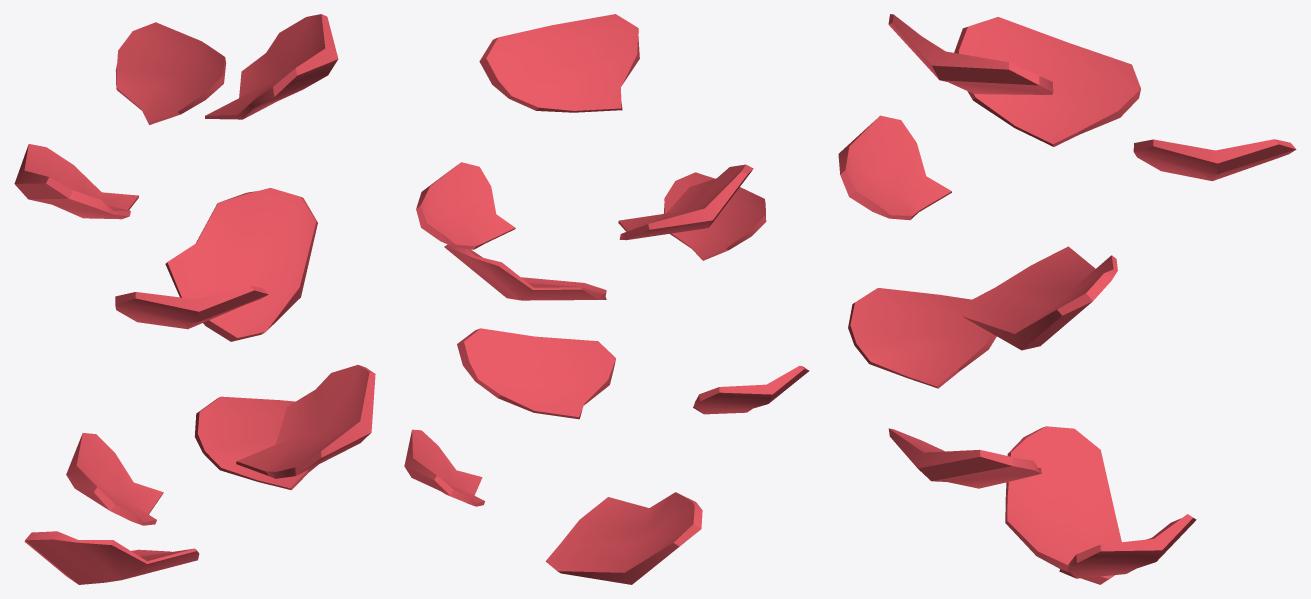
Rendered from RosePetals.fbx.
3 views of the same model, side by side, from view 1: azimuth 30°, elevation 25°; view 2: azimuth 150°, elevation 25°; view 3: azimuth 270°, elevation 25° (orthographic). The views are drawn at different scales.
Visible parts, largest first — view 1: RosePetal5.001, RosePetal3, RosePetal2.001, RosePetal1.001, RosePetal4, RosePetal5, RosePetal3.001, RosePetal2, RosePetal4.001; view 2: RosePetal1.001, RosePetal3, RosePetal5, RosePetal2.001, RosePetal3.001, RosePetal4.001, RosePetal5.001, RosePetal4, RosePetal2; view 3: RosePetal3.001, RosePetal5, RosePetal2, RosePetal5.001, RosePetal4.001, RosePetal1.001, RosePetal3, RosePetal2.001, RosePetal4.
Boxes of the visible parts, x1,y1,x2,y2 form: RosePetal5.001: [165, 188, 317, 341]; RosePetal3: [236, 365, 375, 478]; RosePetal2.001: [115, 22, 226, 124]; RosePetal1.001: [205, 14, 338, 119]; RosePetal4: [194, 396, 318, 490]; RosePetal5: [24, 531, 199, 584]; RosePetal3.001: [14, 144, 138, 219]; RosePetal2: [66, 433, 163, 525]; RosePetal4.001: [115, 285, 268, 329]; RosePetal1.001: [479, 14, 639, 112]; RosePetal3: [457, 328, 615, 419]; RosePetal5: [545, 492, 702, 584]; RosePetal2.001: [416, 162, 515, 249]; RosePetal3.001: [618, 164, 753, 240]; RosePetal4.001: [663, 172, 766, 260]; RosePetal5.001: [444, 244, 606, 300]; RosePetal4: [404, 429, 484, 506]; RosePetal2: [693, 365, 809, 414]; RosePetal3.001: [954, 17, 1140, 146]; RosePetal5: [1005, 426, 1121, 584]; RosePetal2: [848, 288, 996, 388]; RosePetal5.001: [962, 246, 1117, 350]; RosePetal4.001: [838, 115, 951, 220]; RosePetal1.001: [888, 14, 1053, 94]; RosePetal3: [888, 428, 1041, 488]; RosePetal2.001: [1133, 139, 1296, 181]; RosePetal4: [1059, 514, 1196, 578].
Size of the model in its own units: 37.19 by 57.02 by 40.64.
